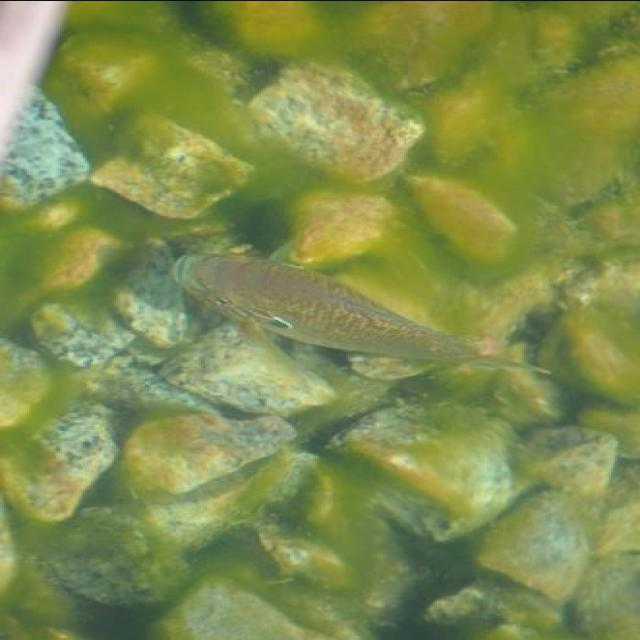Gunes Levregi: (164, 251, 556, 375)
